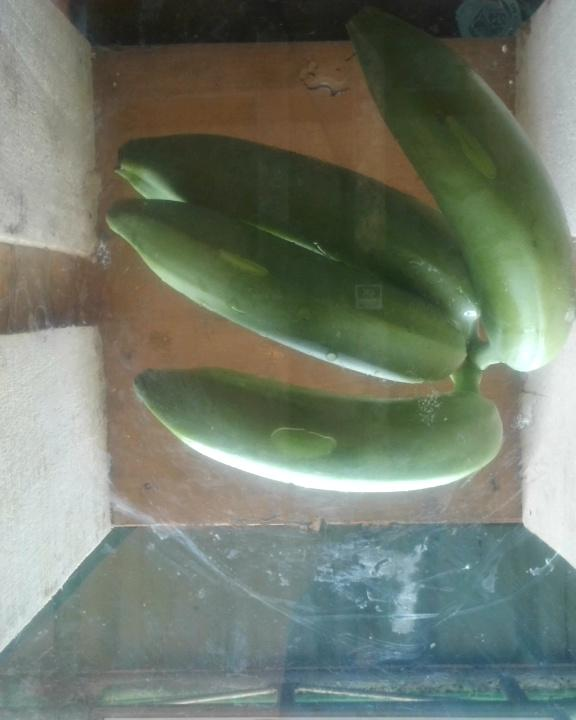SPOT: (100, 4, 576, 509)
